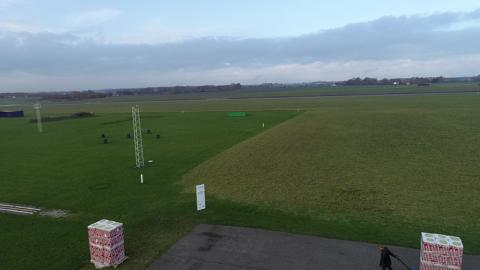RockwoolPallet: (413, 232, 463, 268)
